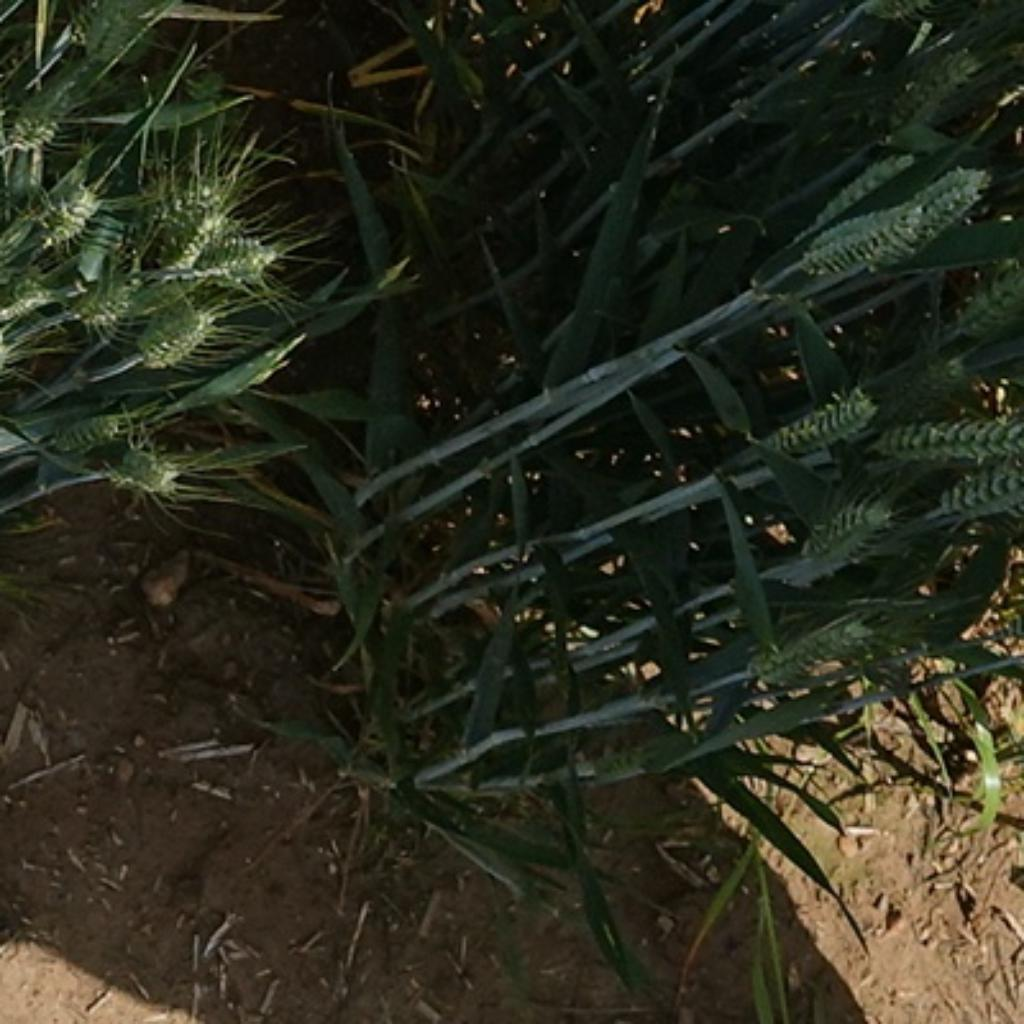0-0: (739, 596, 929, 696), (788, 153, 916, 243), (875, 168, 993, 261), (793, 483, 901, 570), (762, 381, 883, 458), (801, 204, 919, 281), (888, 404, 1021, 468), (890, 51, 990, 135), (130, 284, 222, 366), (12, 64, 89, 158), (164, 201, 238, 286), (878, 360, 980, 419), (926, 468, 1024, 527), (944, 273, 1024, 343), (25, 176, 102, 248), (97, 435, 181, 499), (58, 273, 143, 335), (202, 230, 279, 284), (568, 734, 655, 778), (76, 0, 132, 66), (46, 407, 122, 453), (186, 64, 235, 120)
